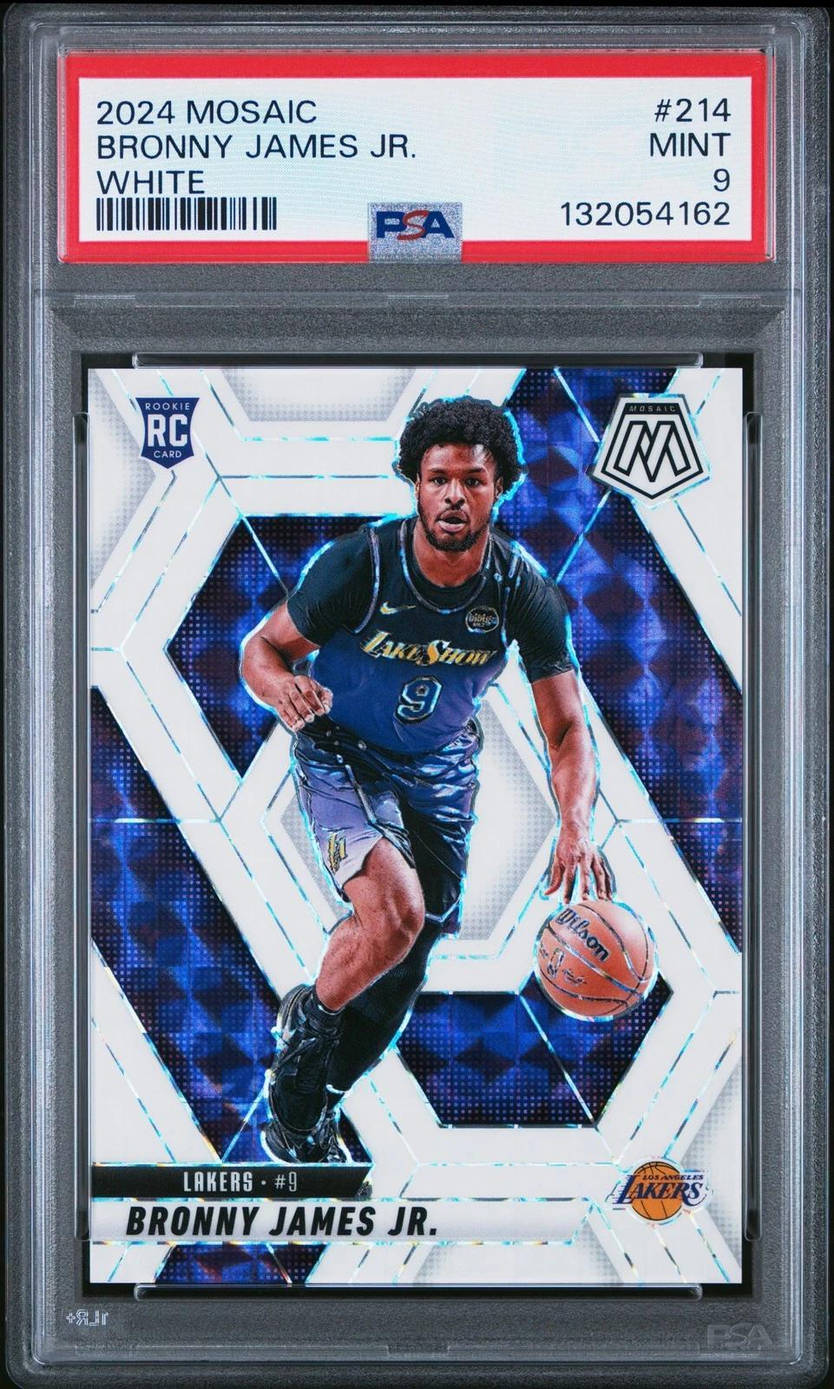card-2UtV: (87, 367, 744, 1284)
